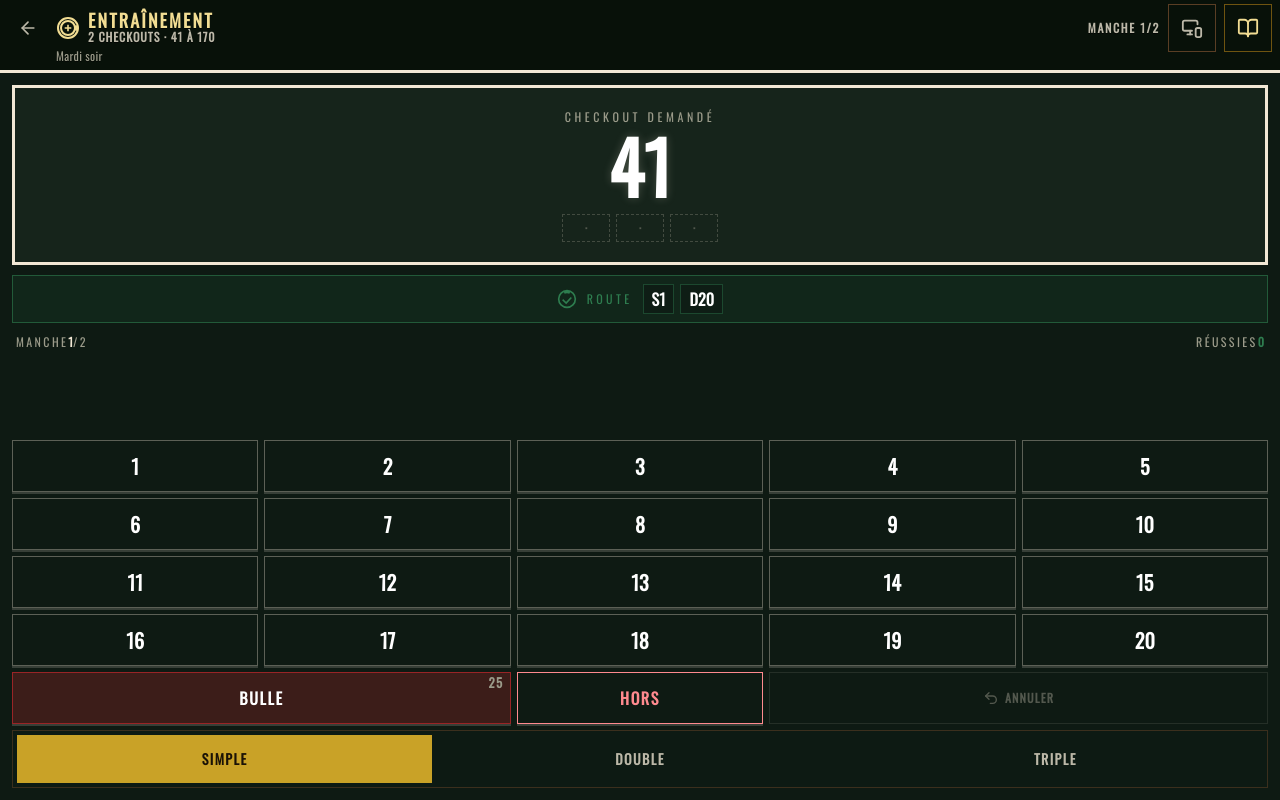
Bandeau Entraînement — sous-titre et « Manche N/total » › dit les règles à gauche, la manche en cours à droite
The image size is (1280, 800).
Check: the text "2 checkouts · 41 à 170" is shown, box [88,29,215,45]
Check: the text "Manche 1/2" is shown, box [1088,20,1160,36]
Click the button "1" at (135,466), box [12,440,258,492]
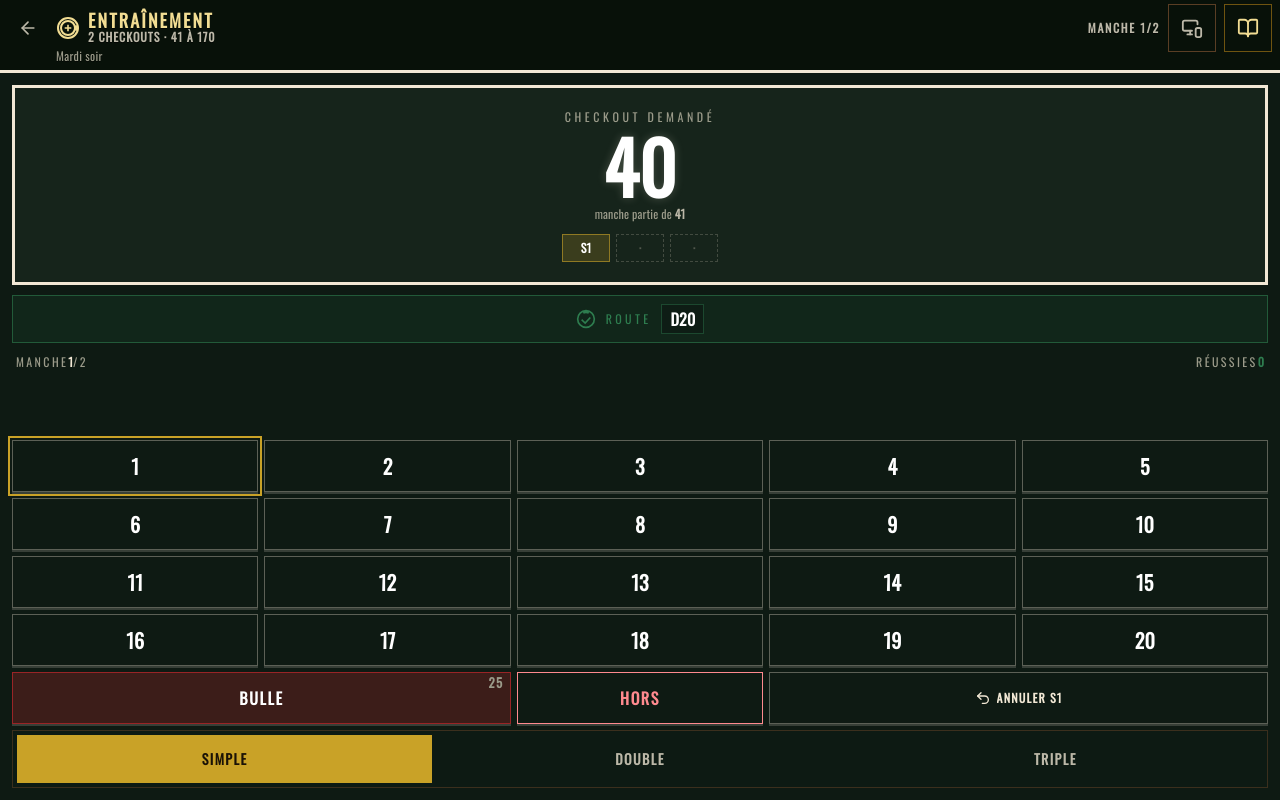
Click the button "1" at (135,466), box [12,440,258,492]
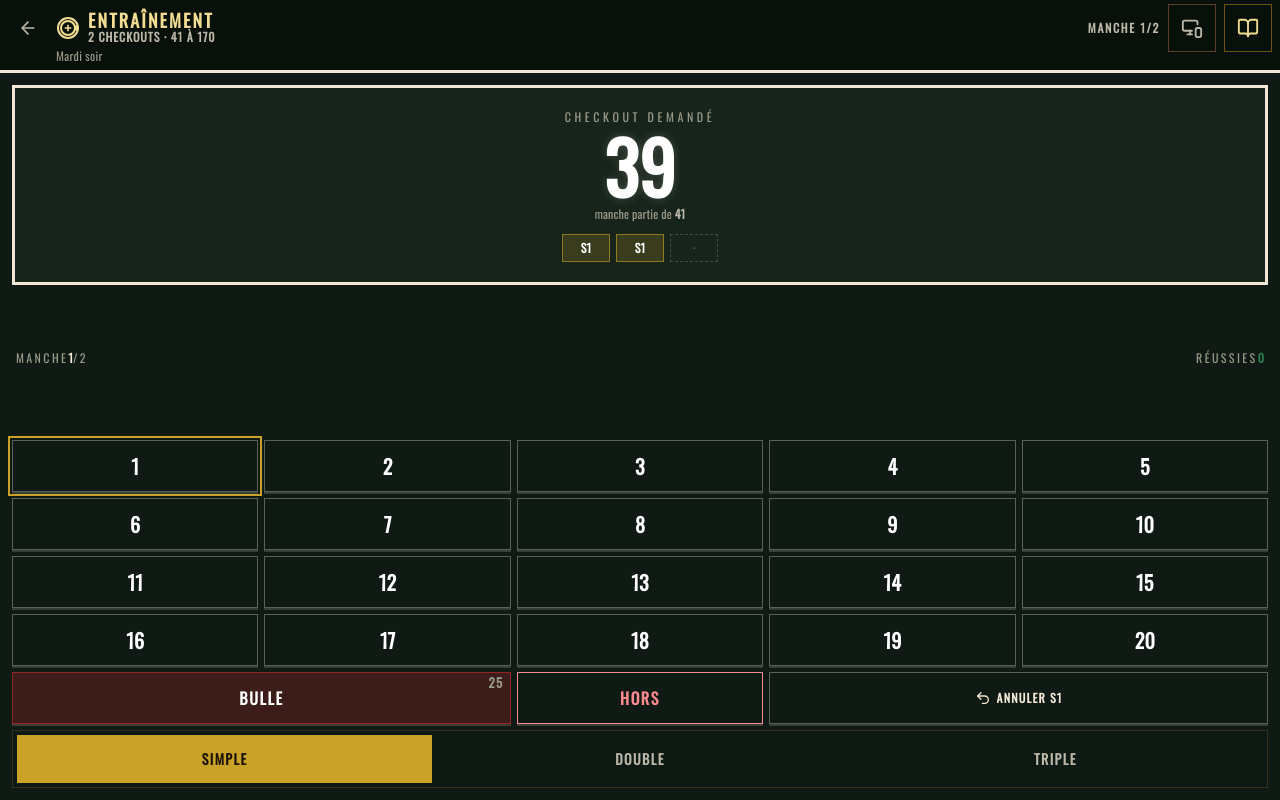
Click the button "1" at (135,466), box [12,440,258,492]
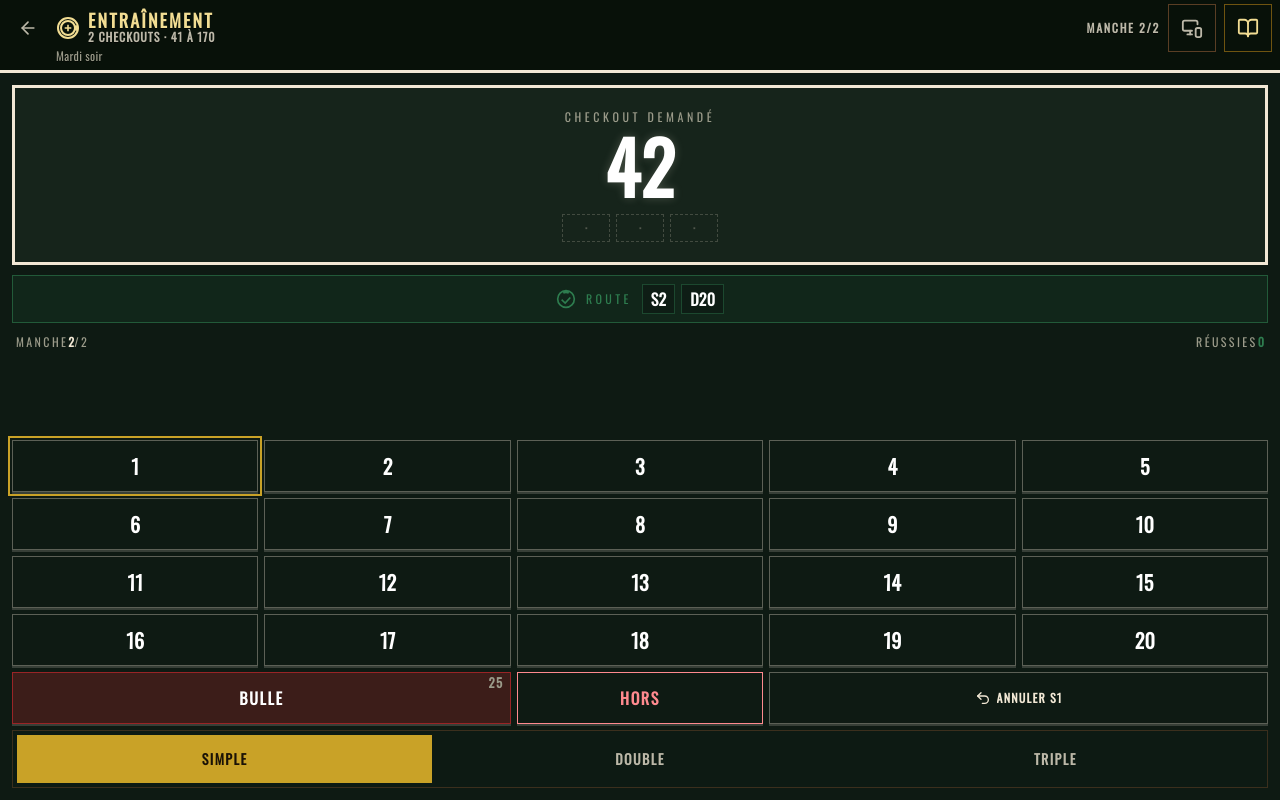
Check: the text "Manche 2/2" is shown, box [1087,20,1160,36]
